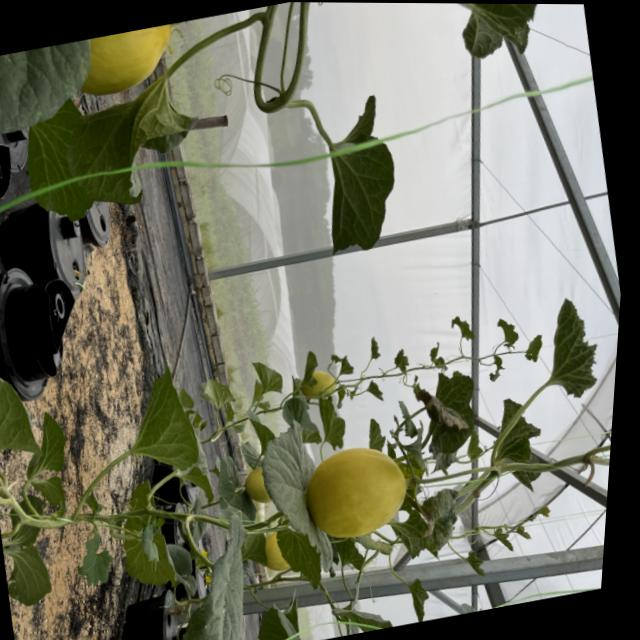CMV: (530, 289, 610, 409)
bacterial wilt: (383, 487, 466, 569), (407, 374, 475, 441)
downy mildew: (0, 37, 110, 154)
healthy: (16, 69, 213, 225), (301, 88, 418, 259), (246, 424, 342, 586), (155, 510, 270, 640), (115, 367, 214, 515), (430, 3, 570, 77), (15, 413, 84, 508), (0, 347, 49, 470), (0, 532, 62, 624)
